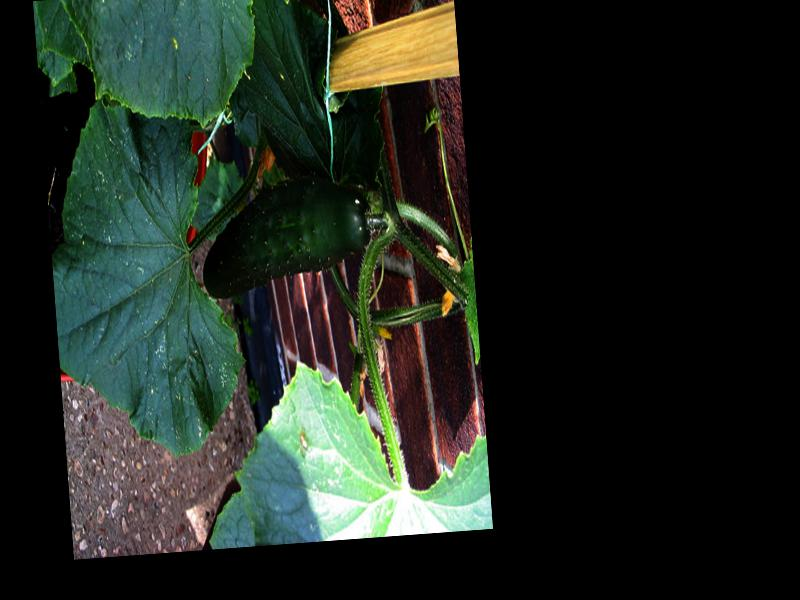Cucumber: (196, 173, 374, 303)
